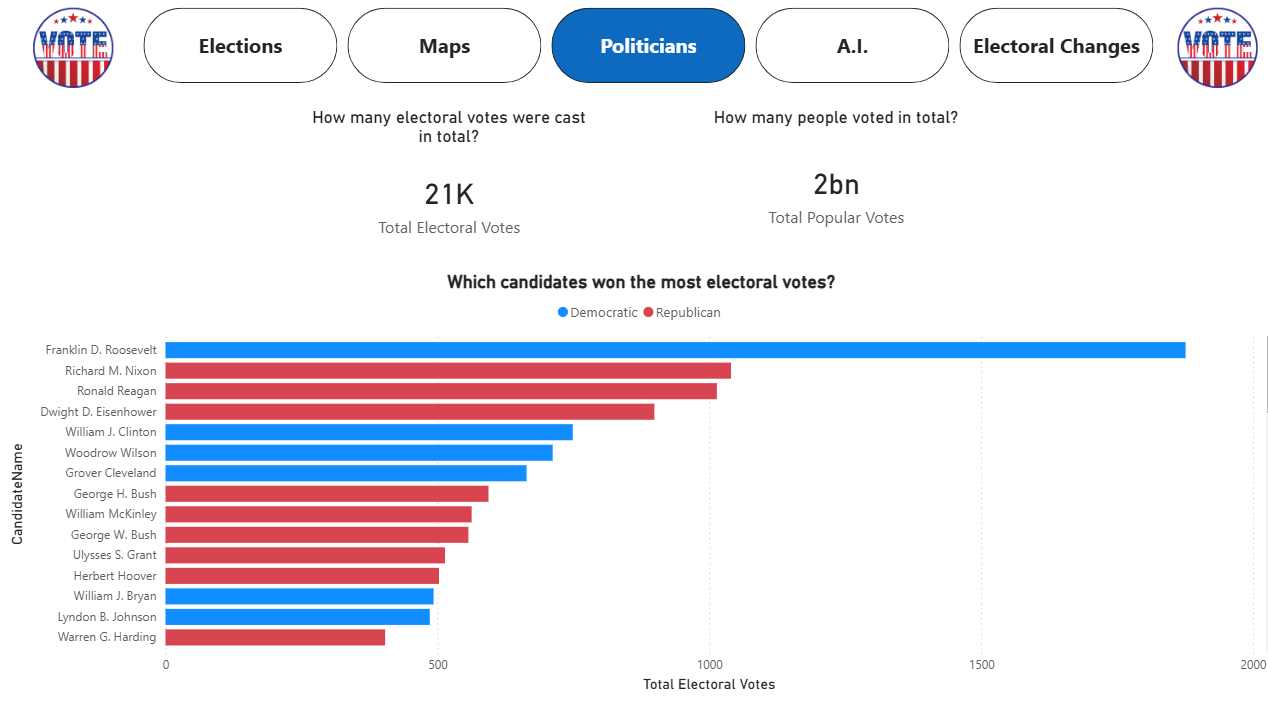

What the dashboard file says about the page in this screenshot:
{"tool":"powerbi","page":{"name":"Politicians","canvas":[1280,720],"ordinal":2},"visuals":[{"type":"pageNavigator","box":[150,10,1008.6,75],"z":0},{"type":"image","box":[1158.6,10,121.4,80],"z":1000},{"type":"image","box":[20,10,121.4,80],"z":2000},{"type":"barChart","title":"Which candidates won the most electoral votes?","fields":{"Category":["Candidate (Dim).CandidateName"],"Y":["Election Results (Fact).Total Electoral Votes"],"Series":["Political Party (Dim).PartyName"]},"box":[11.9,271.7,1268.5,424.2],"z":3000},{"type":"card","title":"How many electoral votes were cast in total?","fields":{"Values":["Election Results (Fact).Total Electoral Votes"]},"box":[308.1,109.2,293.5,150],"z":4000},{"type":"card","title":"How many people voted in total?","fields":{"Values":["Election Results (Fact).Total Popular Votes"]},"box":[697.8,109.2,285.3,150],"z":5000}]}

Visuals, with their boxes in screenshot pixels (x1, y1, x2, y2), scaled from the page's 1280x720 canvas onto the 1268x711 screenshot:
pageNavigator: l=149, t=10, r=1148, b=84
image: l=1148, t=10, r=1267, b=89
image: l=20, t=10, r=140, b=89
"Which candidates won the most electoral votes?" barChart: l=12, t=268, r=1267, b=687
"How many electoral votes were cast in total?" card: l=305, t=108, r=596, b=256
"How many people voted in total?" card: l=691, t=108, r=974, b=256
